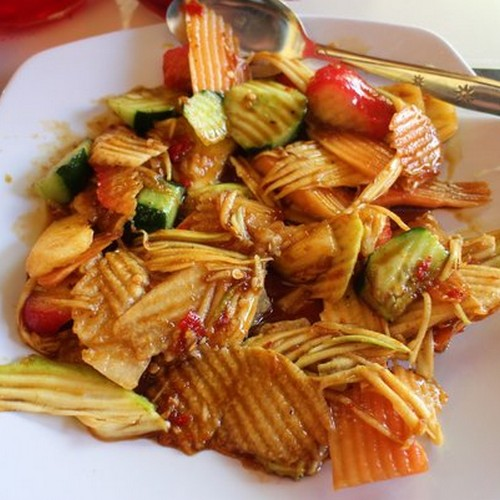rujak buleleng: (49, 99, 441, 492)
